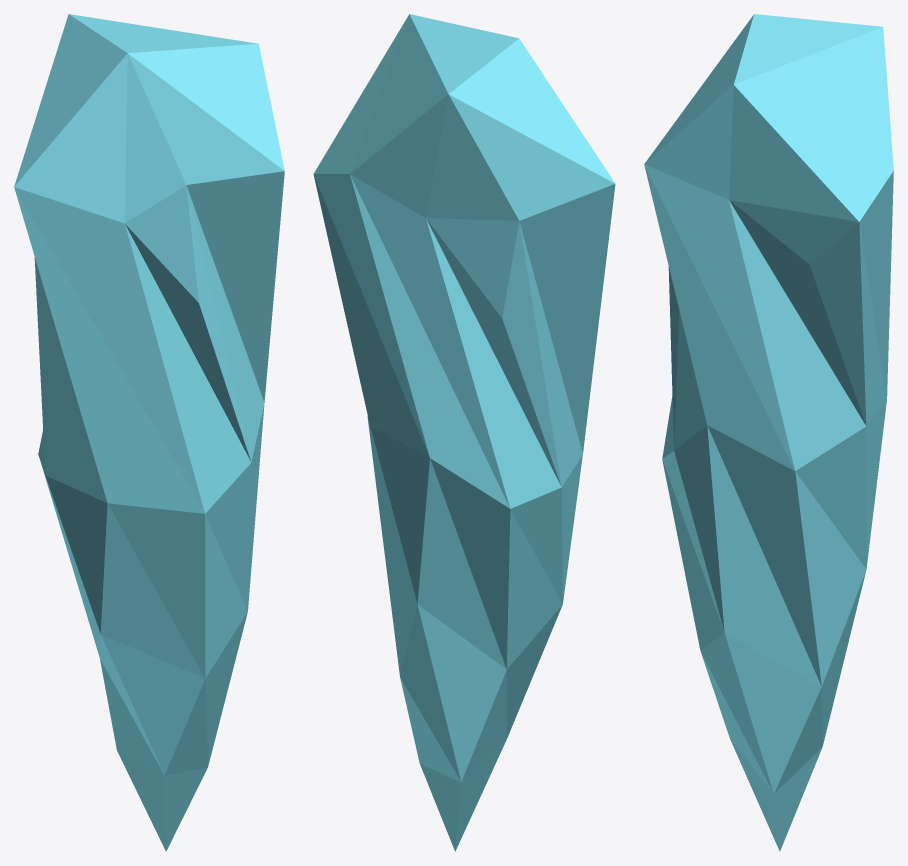
Rendered from Flipper1.FBX.
The picture shows the model from 3 angles, left to right: view 1: azimuth 30°, elevation 25°; view 2: azimuth 150°, elevation 25°; view 3: azimuth 270°, elevation 25°; orthographic projection.
Visible parts, largest first — view 1: GeoSphere003; view 2: GeoSphere003; view 3: GeoSphere003.
Boxes of the visible parts, <box> form: GeoSphere003: <box>14,14,284,851</box>; GeoSphere003: <box>313,14,615,851</box>; GeoSphere003: <box>644,14,893,851</box>.
Bounding box in the file's own units: 22.05 × 66.78 × 18.59.
